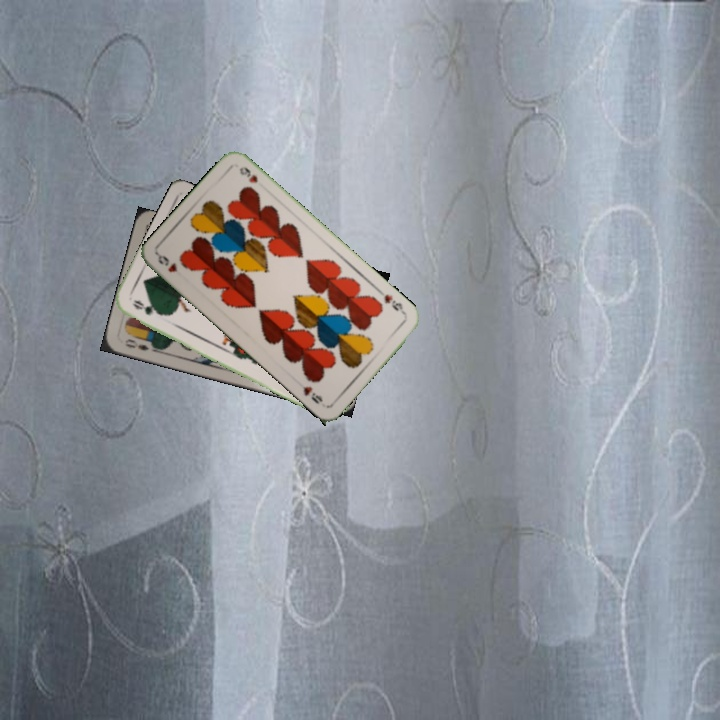EO: (121, 333, 158, 354)
GO: (128, 296, 166, 318)
H9: (375, 286, 408, 317), (153, 250, 180, 275)
